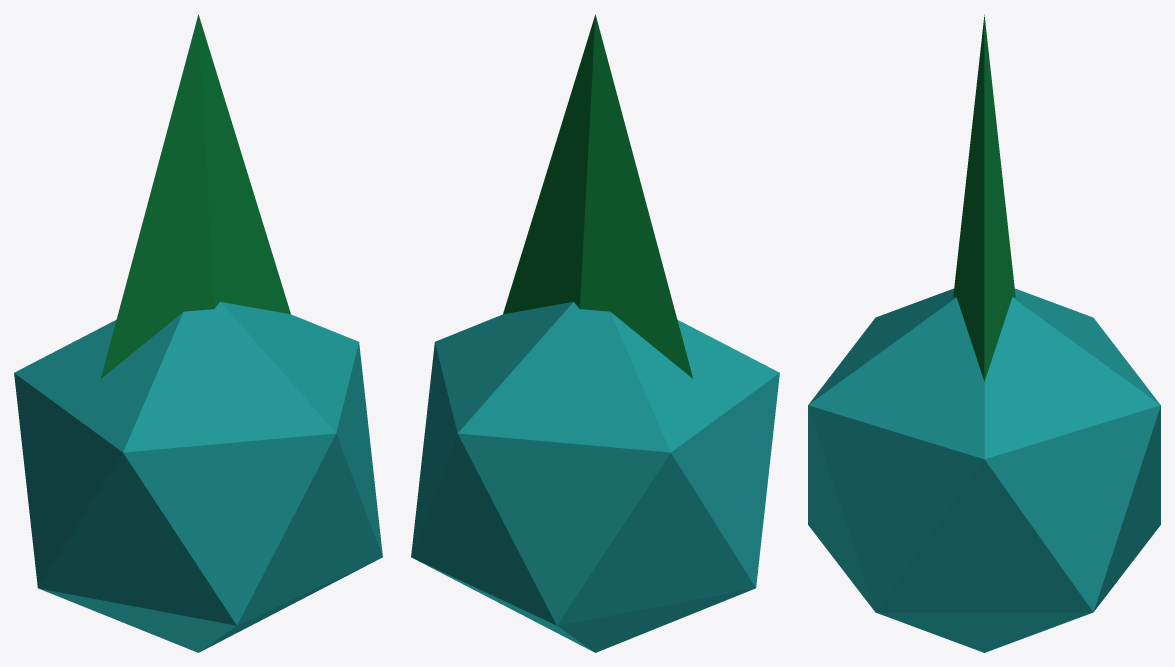
The model's file is Item_OR_Herb_01.glb.
The picture shows the model from 3 angles, left to right: view 1: azimuth 30°, elevation 25°; view 2: azimuth 150°, elevation 25°; view 3: azimuth 270°, elevation 25°; orthographic projection.
Visible parts, largest first — view 1: Item_OR_Herb_01; view 2: Item_OR_Herb_01; view 3: Item_OR_Herb_01.
Boxes of the visible parts, x1,y1,x2,y2 form: Item_OR_Herb_01: [14, 14, 382, 652]; Item_OR_Herb_01: [411, 14, 779, 652]; Item_OR_Herb_01: [808, 14, 1160, 652].
Bounding box in the file's own units: 0.0894 × 0.17 × 0.0851.
